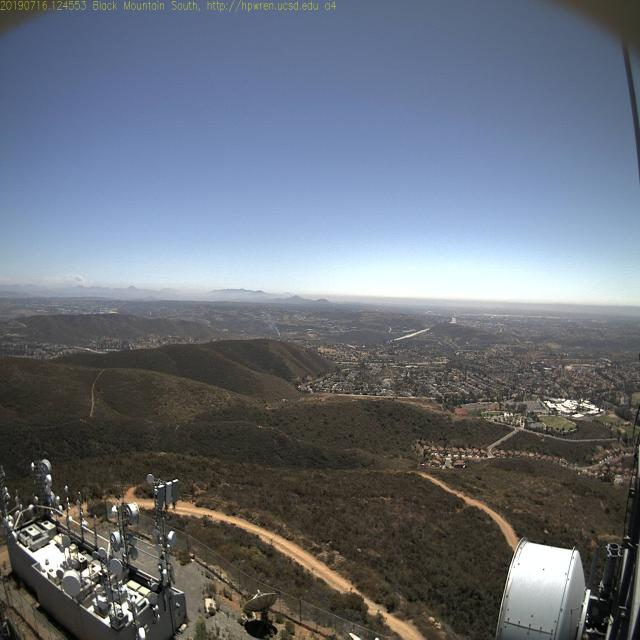smoke: (267, 319, 288, 346)
